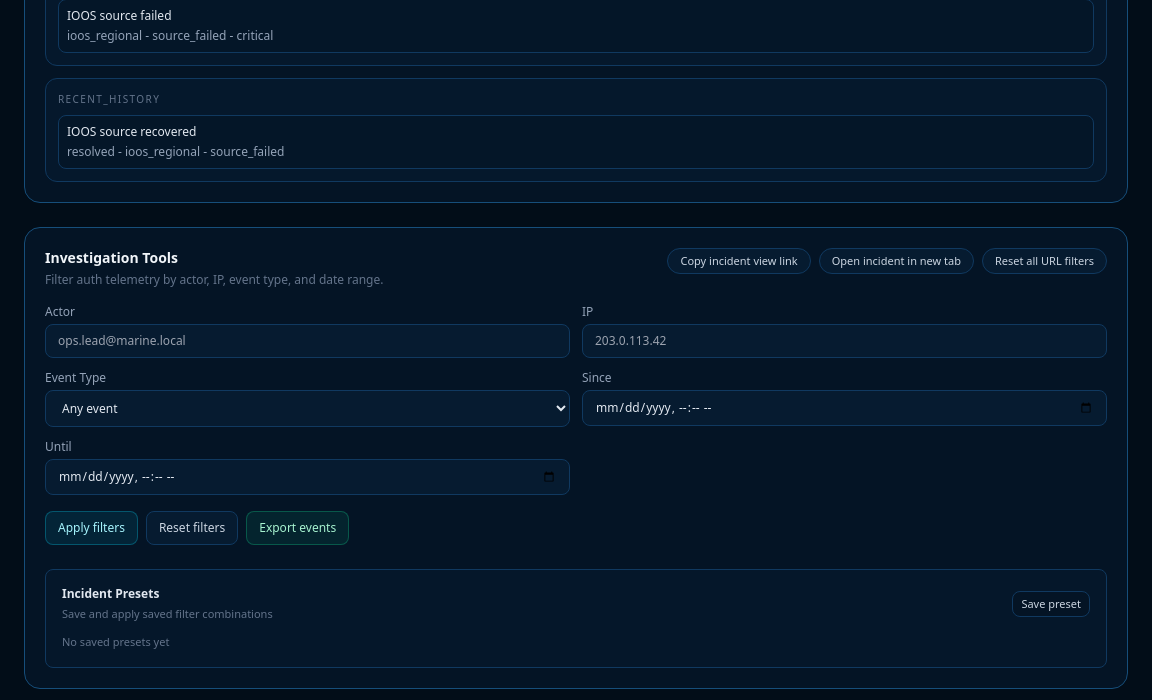
Test case: security console saves current filter state as incident preset
(page scrolled)
Type "pilot.auth@marine.local" into the field labelled "Actor" at (308, 340), box [45, 324, 570, 358]
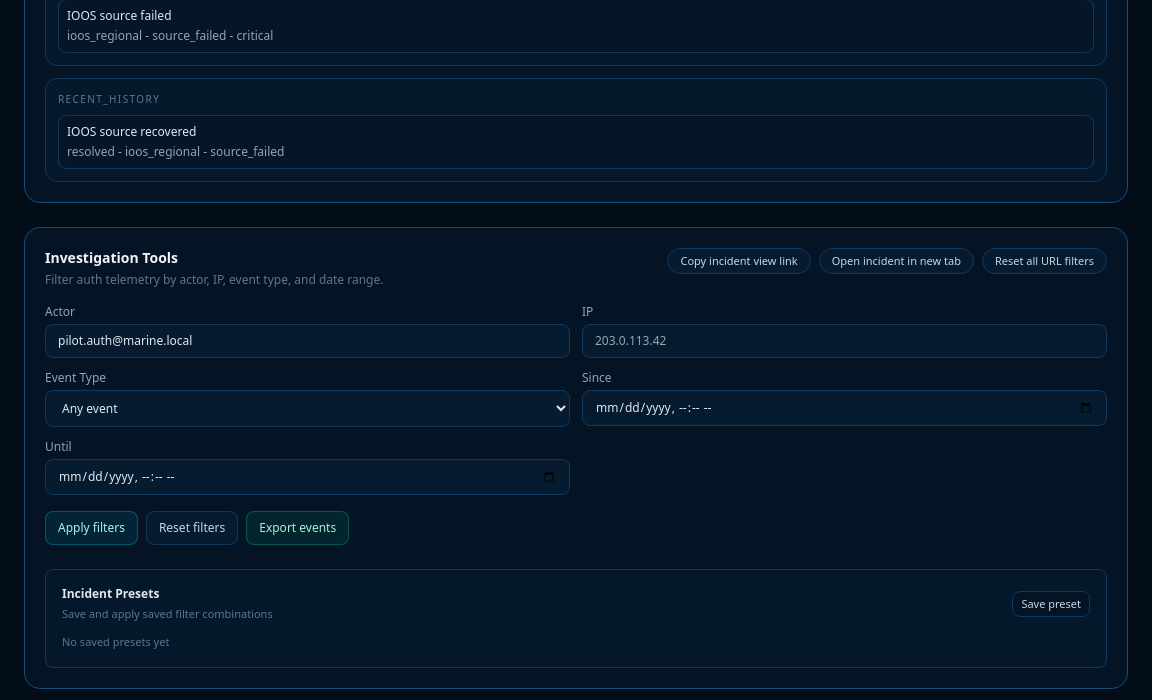
Type "198.51.100.99" into the field labelled "IP" at (844, 340), box [582, 324, 1107, 358]
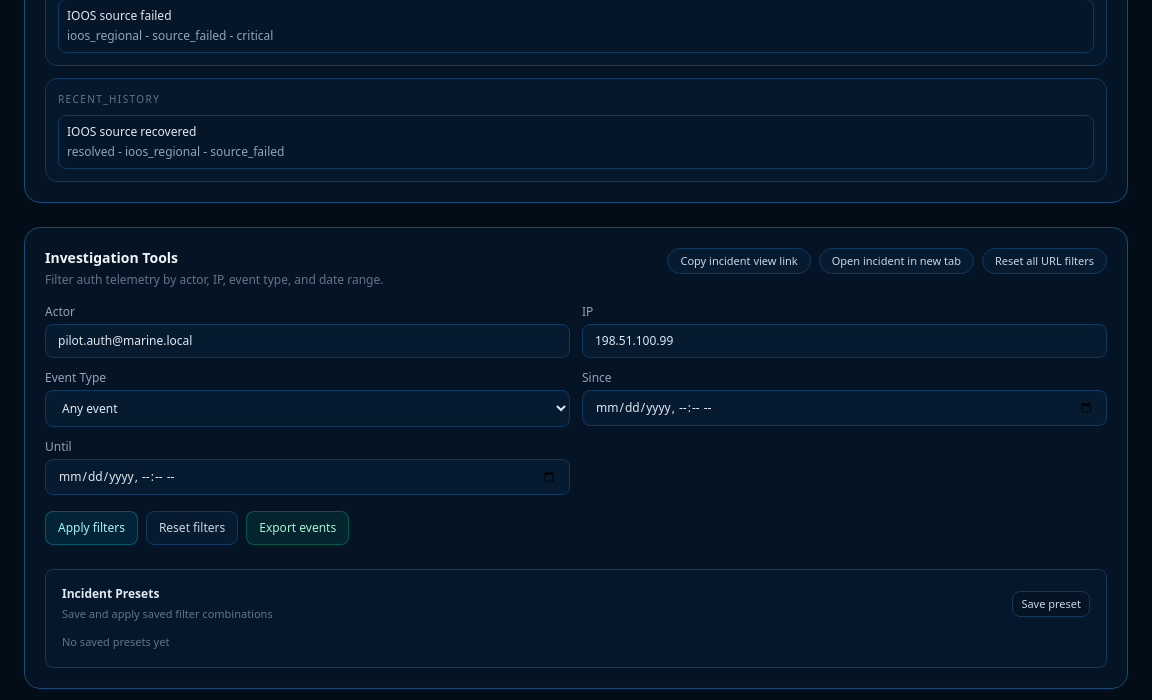
Select "login_failure" in the dropdown labelled "Event Type" at (308, 408), box [45, 390, 570, 426]
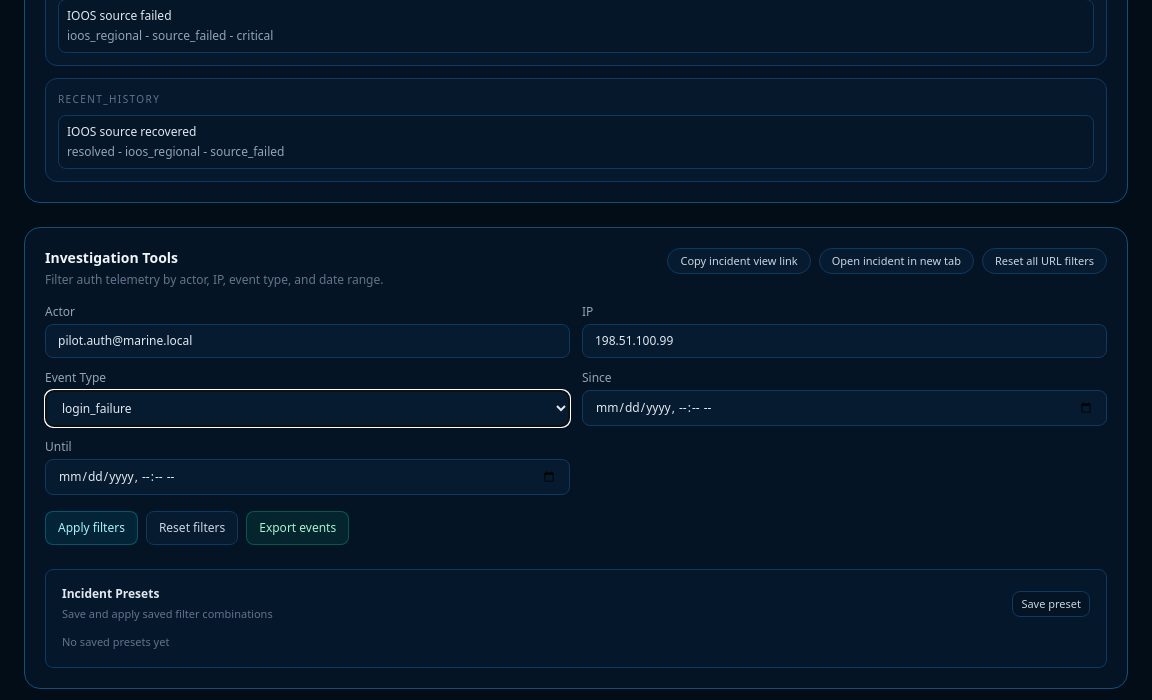
Click the button "Save preset" at (1051, 604), box [1012, 590, 1090, 617]
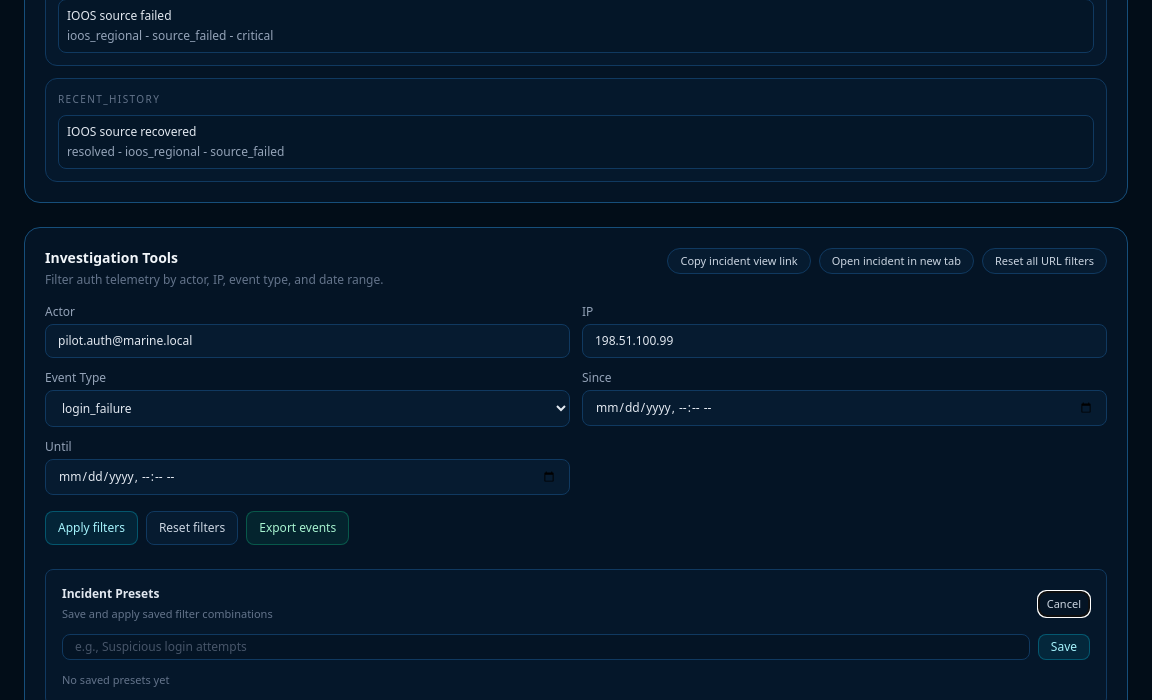
Now the field with placeholder "e.g., Suspicious login attempts" is shown
Type "Suspicious Logins" into the field with placeholder "e.g., Suspicious login attempts" at (546, 647), box [62, 634, 1030, 660]
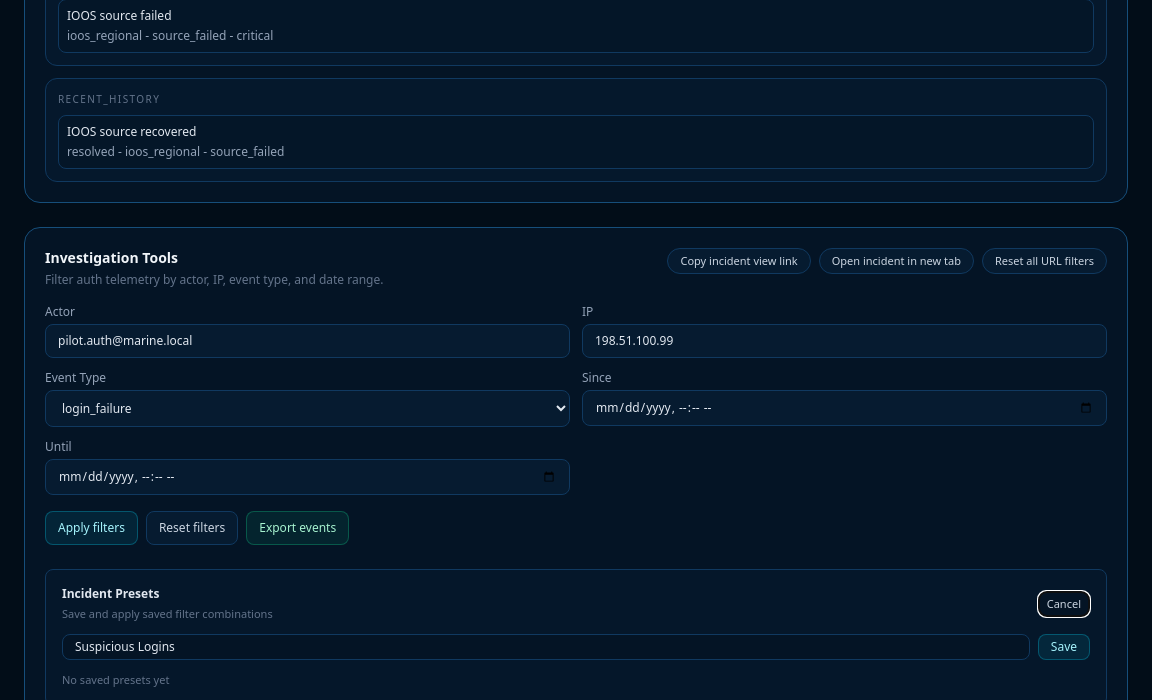
Click the button "Save" at (1064, 647), box [1038, 634, 1090, 660]
(page scrolled)
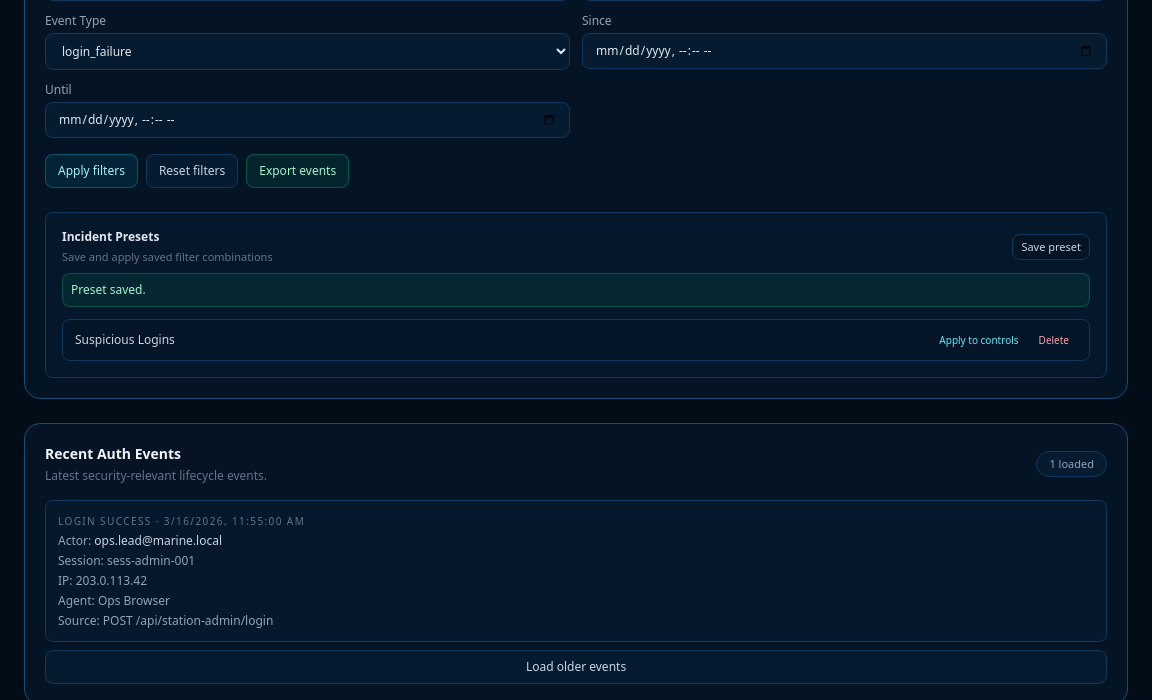
Now the text "Suspicious Logins" is shown, box [75, 332, 175, 348]
